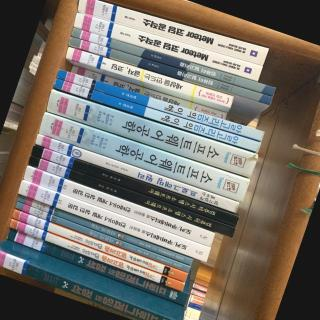book-spine: (36, 112, 249, 202), (44, 89, 258, 177), (26, 155, 235, 238), (29, 145, 239, 226), (16, 179, 210, 262), (33, 134, 238, 212), (21, 165, 215, 247), (53, 78, 260, 152), (56, 69, 263, 141), (67, 36, 272, 106), (6, 228, 188, 306), (70, 28, 275, 96), (72, 12, 262, 81), (11, 209, 187, 282), (14, 201, 190, 273), (8, 219, 184, 291), (75, 0, 268, 65), (16, 195, 192, 265), (0, 252, 174, 320), (65, 46, 233, 107), (70, 65, 226, 120)
